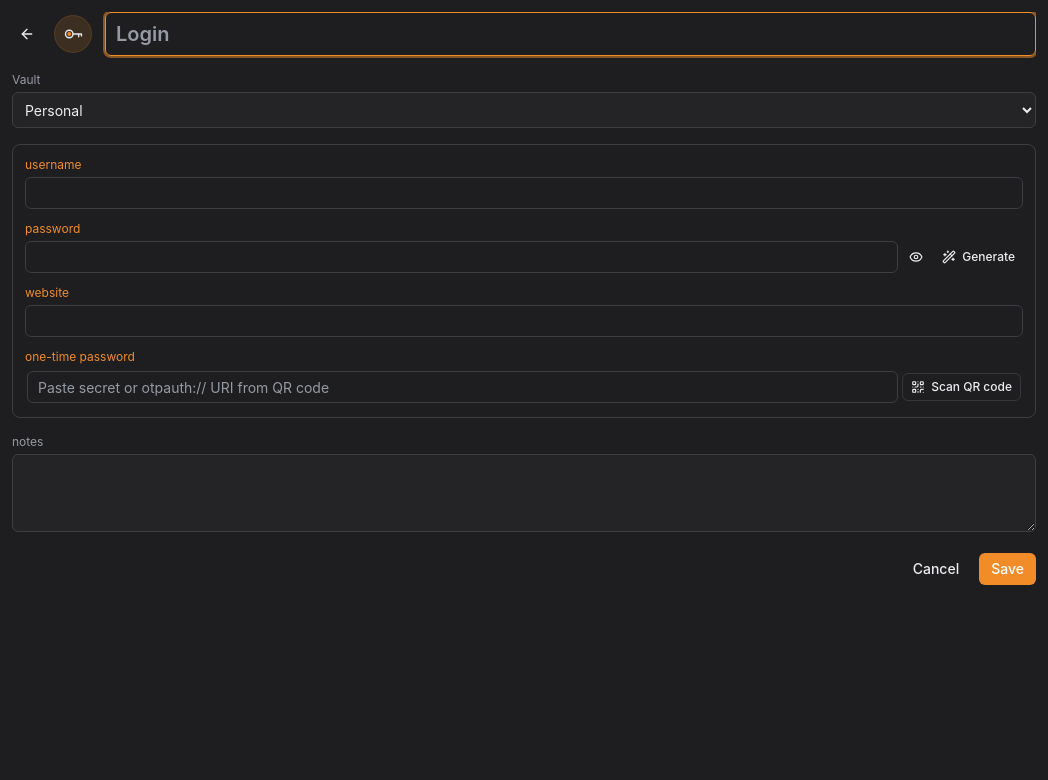
Test: TOTP QR code scanning › CreateForm: dismisses autofill offer without changing title or username
The width and height of the screenshot is (1048, 780).
Click the button with test id "totp-scan-button". click: (962, 387)
box: [902,373,1021,401]
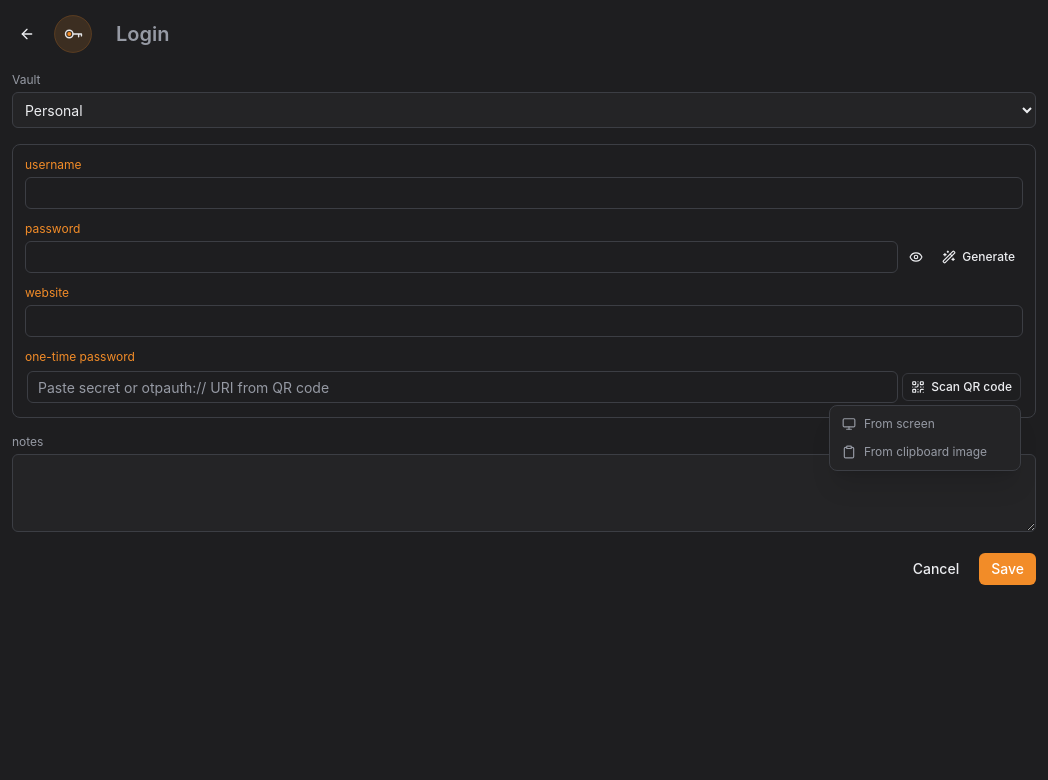
Click the menu item with test id "scan-qr-clipboard". click: (915, 452)
box: [842,444,987,459]
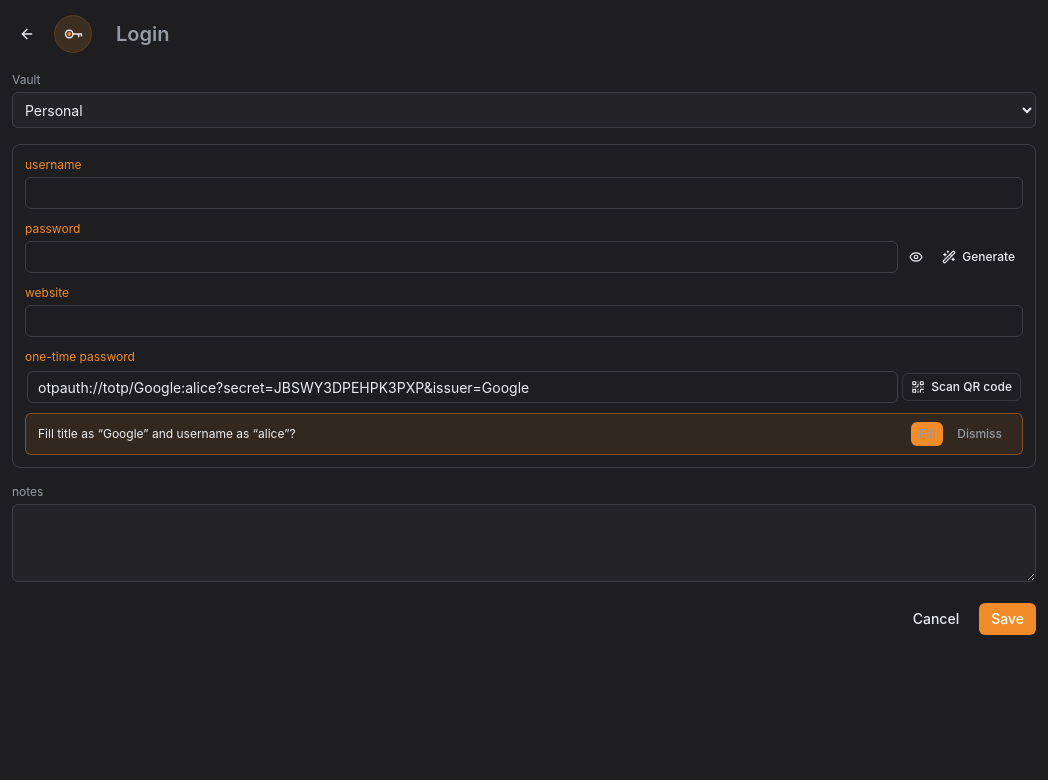
Click the button with test id "totp-autofill-dismiss". click: (980, 434)
box: [949,422,1010,446]
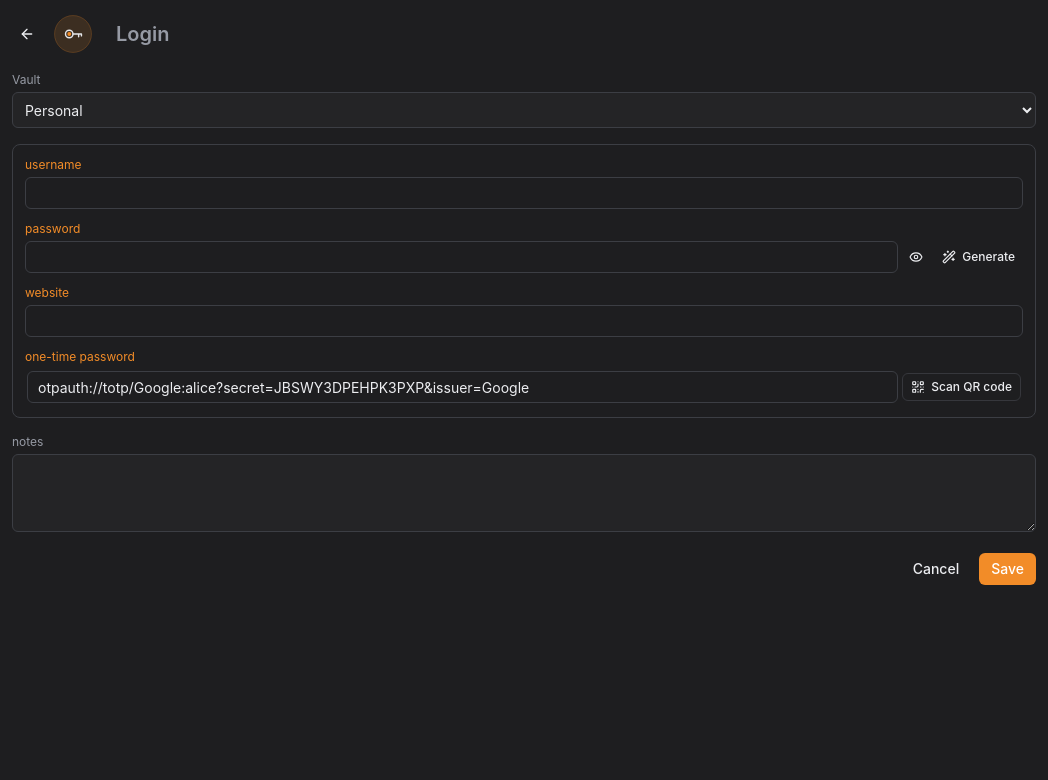
Expected: the field named "Title" is empty, [105,12,1036,56]
Now the element with test id "totp-autofill-suggestion" is gone
